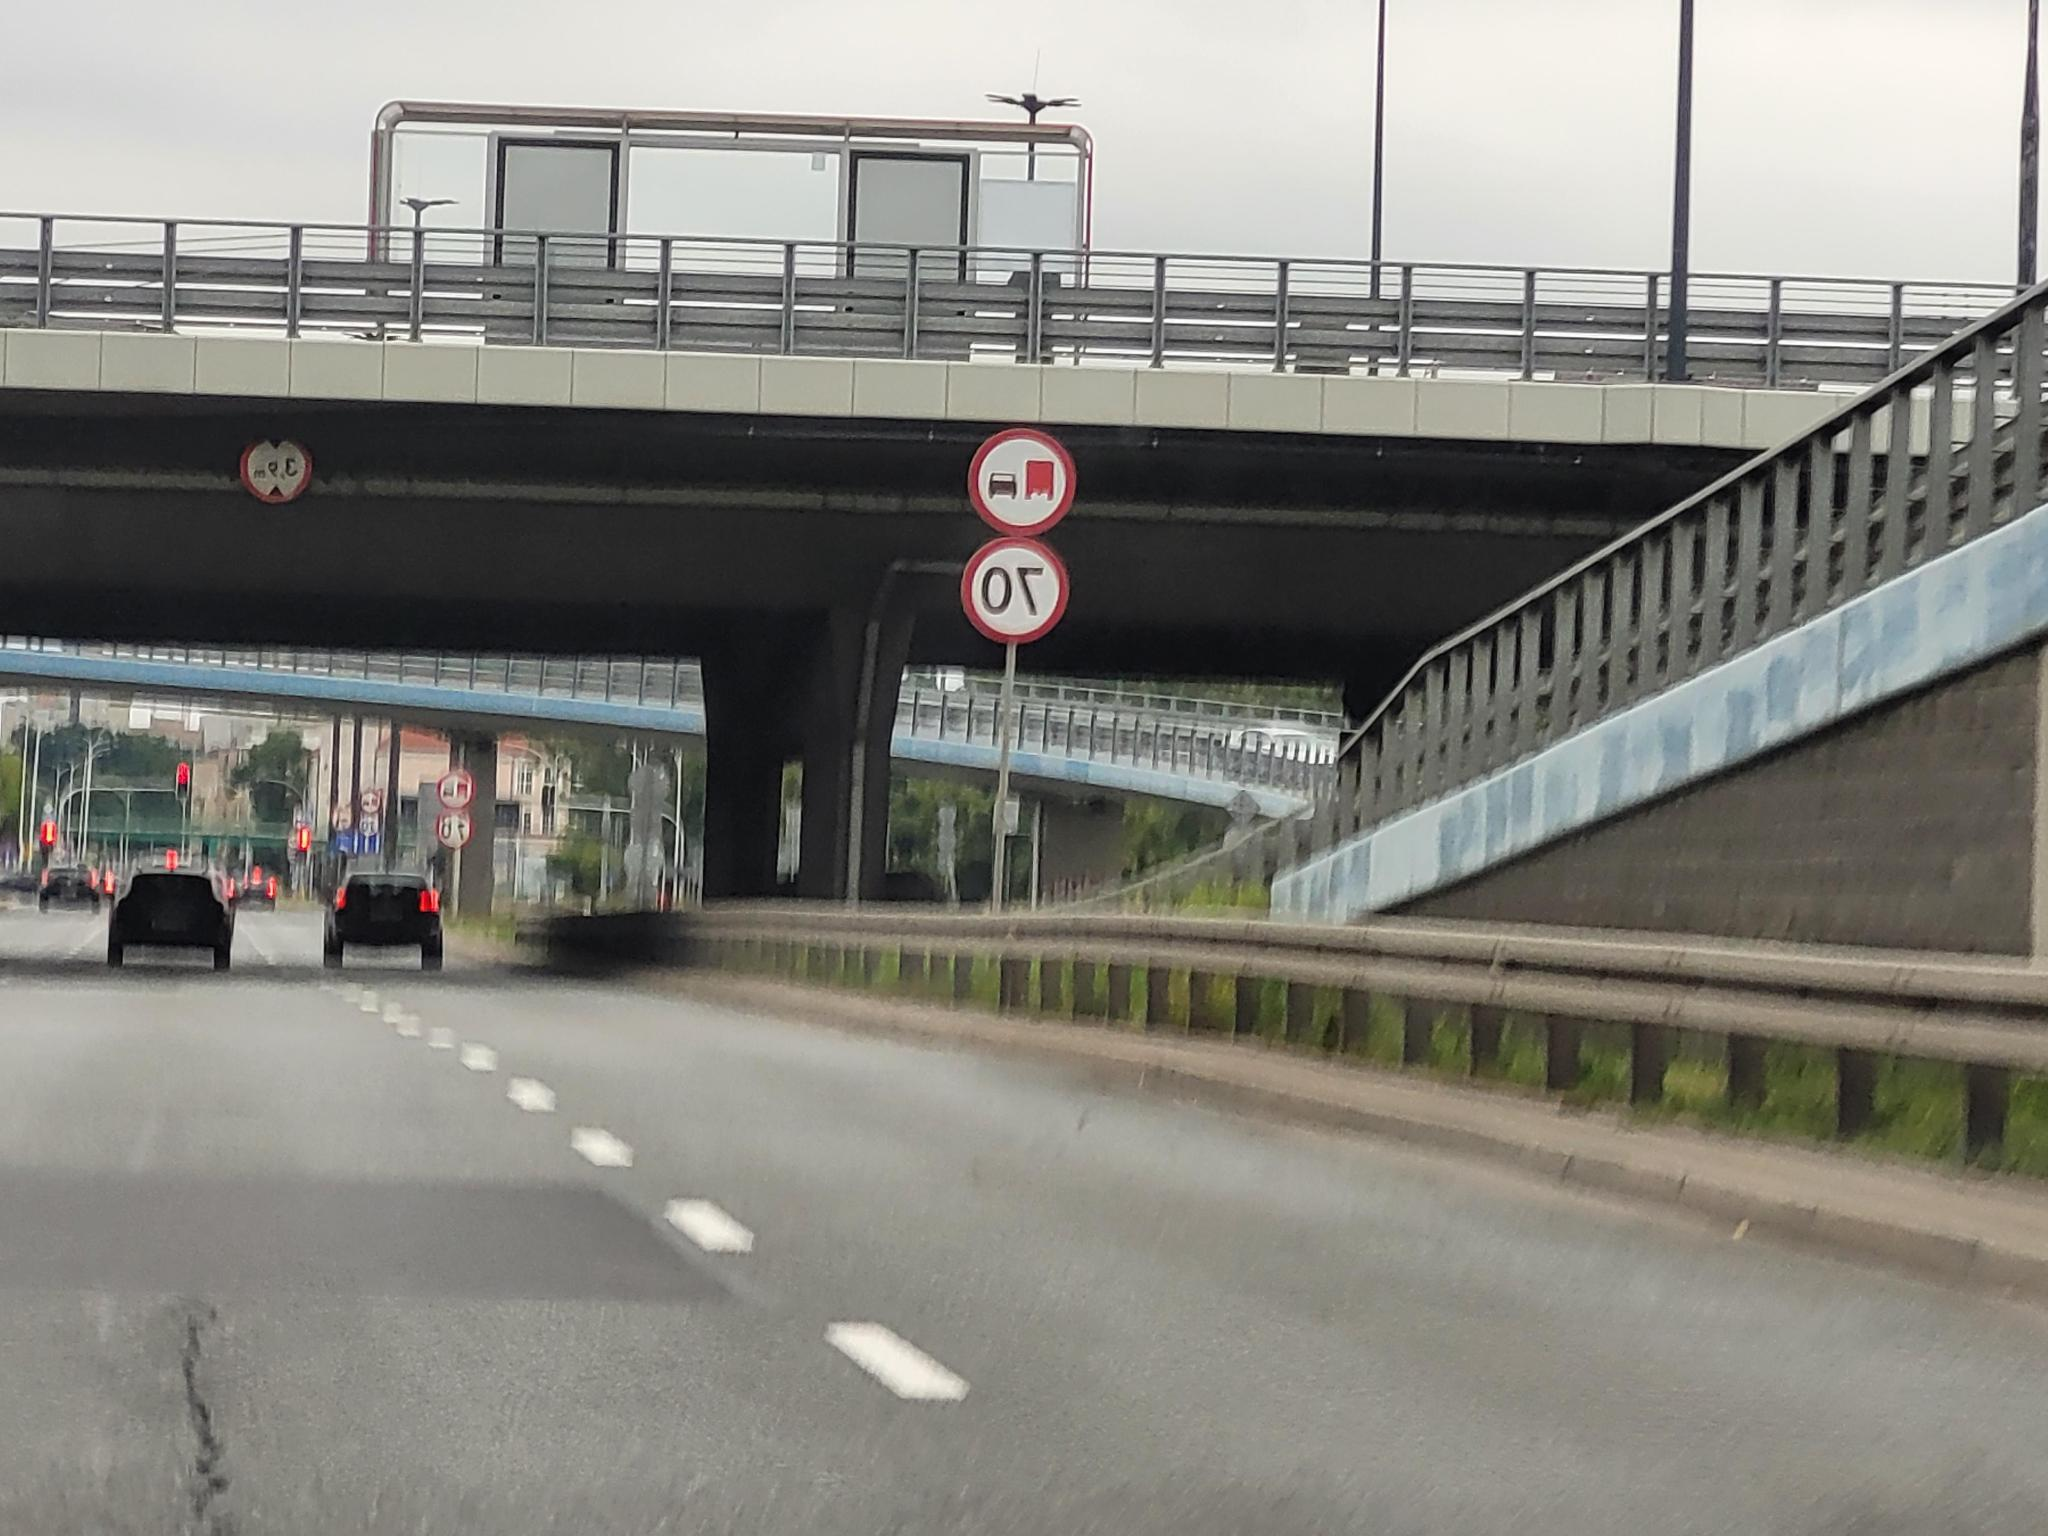prohibitory: (959, 536, 1071, 644), (968, 428, 1076, 537), (239, 432, 311, 503)
